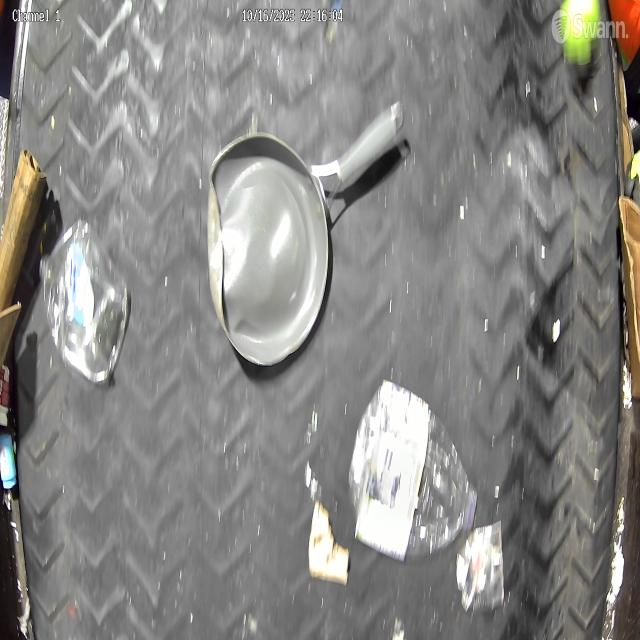plastic_bottle: (349, 379, 480, 555), (456, 519, 504, 612)
